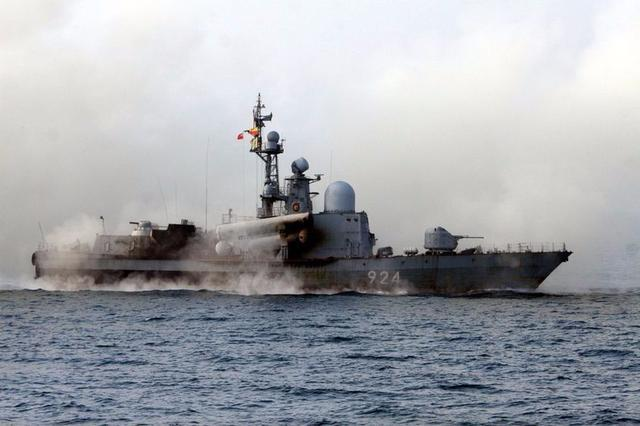warship: (14, 93, 578, 301)
